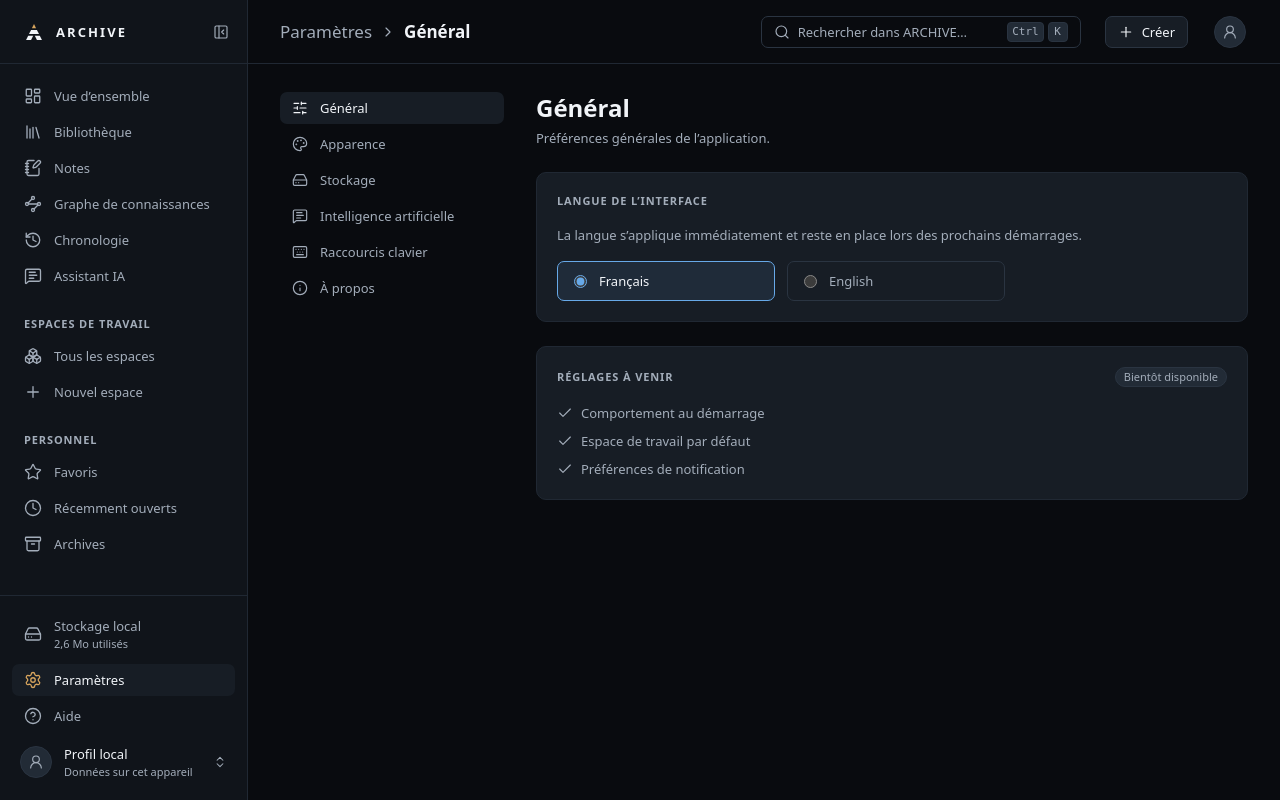
Scenario: settings › changes the interface language, stores it and confirms in the new language
Click the radio button labelled "English". click: coordinates (810, 281)
box: [804,274,817,288]
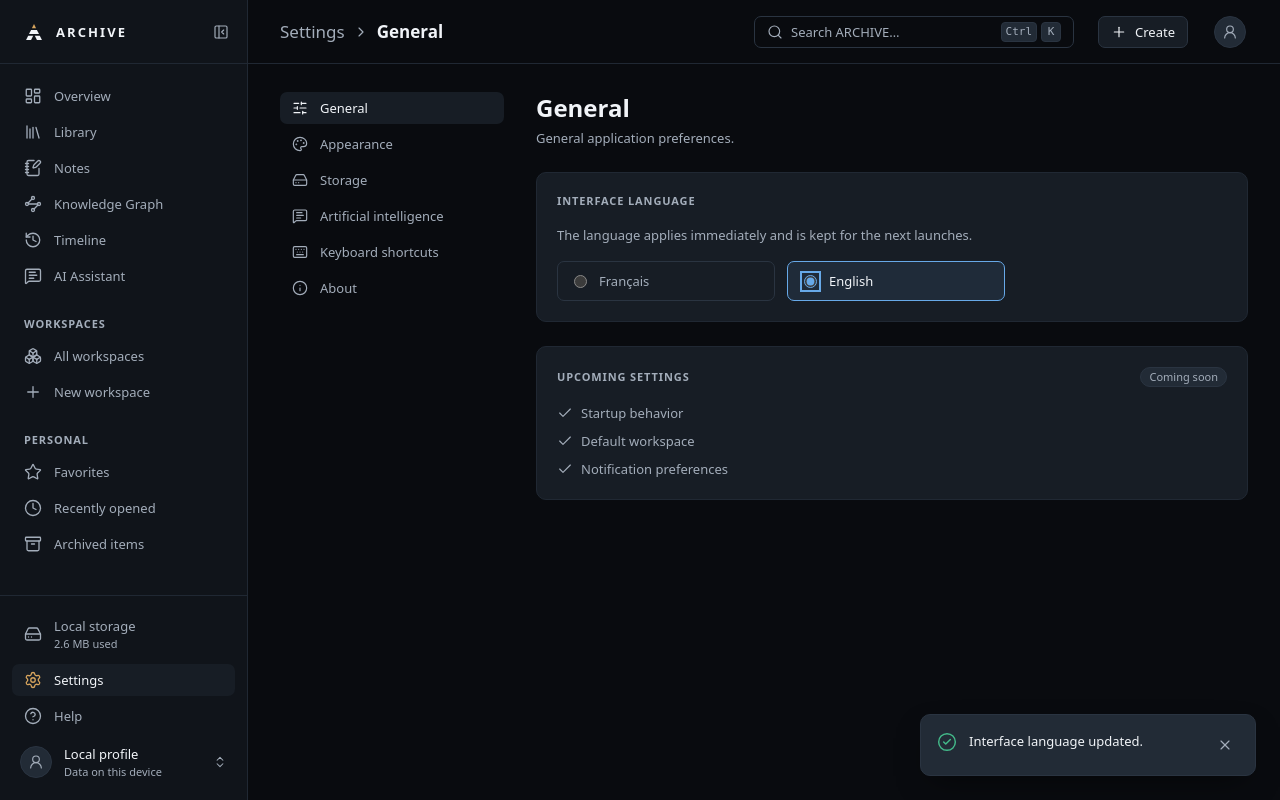
Now the 1st heading "General" is shown, box [377,18,443,44]
Now the text "Interface language updated." is shown, box [969,732,1143,750]
